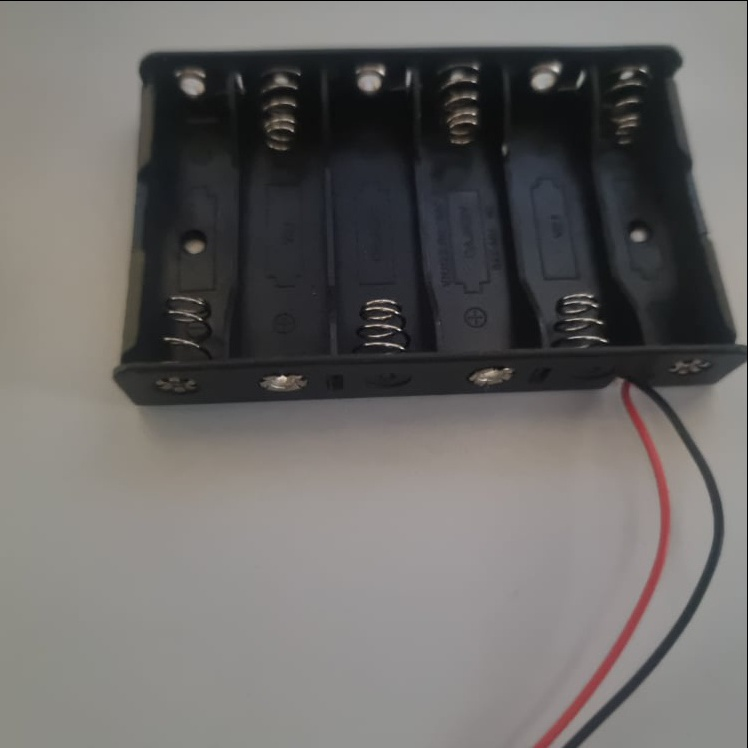BATTERY BOX: (116, 43, 748, 404)
